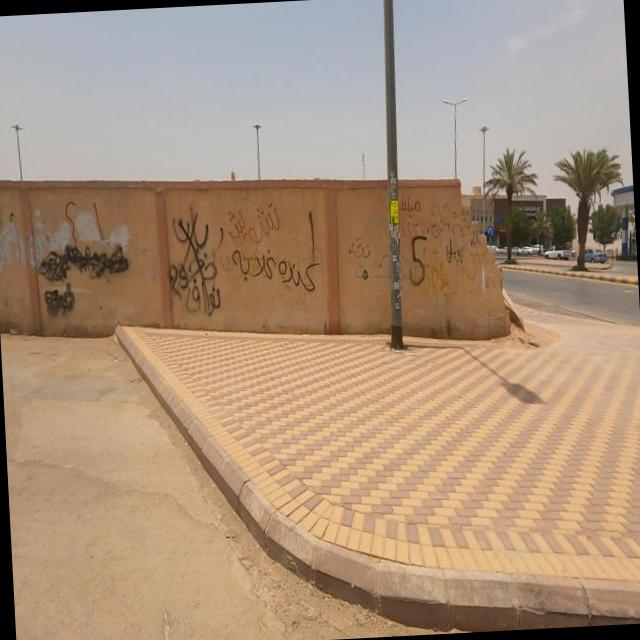debris: (158, 118, 407, 390), (0, 159, 195, 378), (116, 131, 266, 386), (364, 137, 516, 328), (320, 186, 405, 332)
